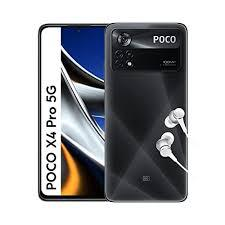Smartphone: (110, 26, 185, 200), (40, 28, 110, 198)
